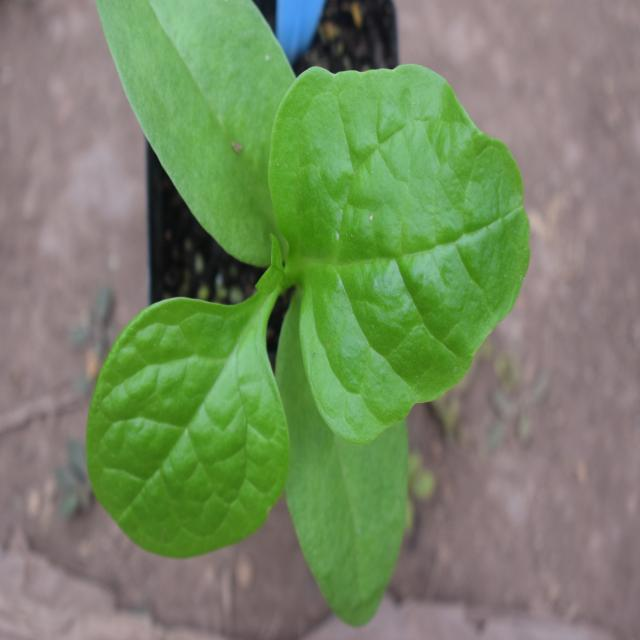Ceylon spinach: (94, 0, 521, 620)
